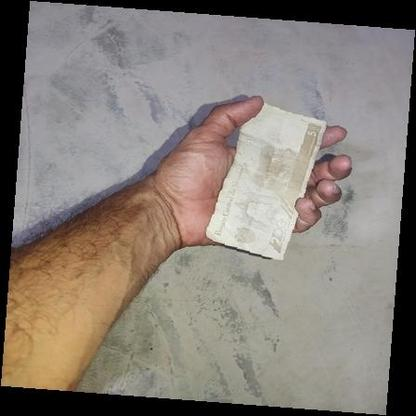five-back-vef: (206, 102, 328, 260)
